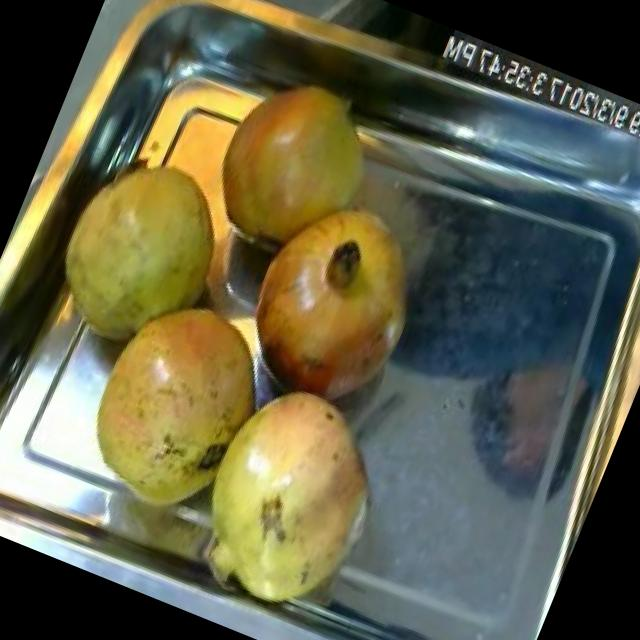fruit: (158, 354, 418, 640), (56, 266, 294, 537), (216, 169, 453, 432), (27, 123, 256, 380), (180, 47, 406, 288)
